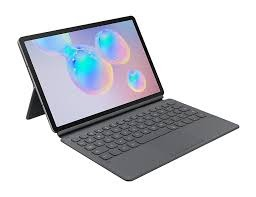keyboard: (43, 123, 241, 181)
